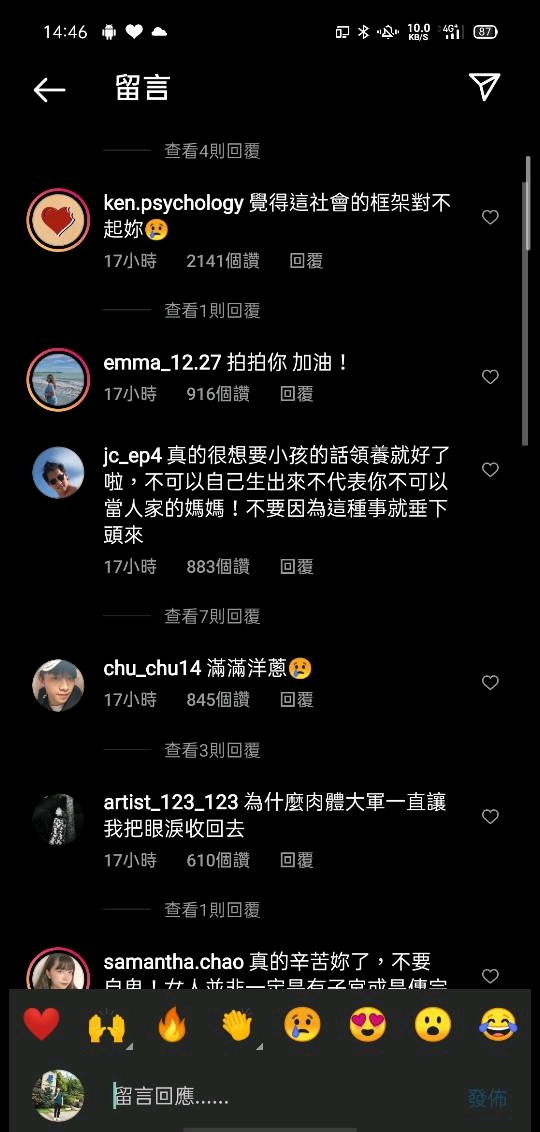back: (24, 66, 78, 115)
